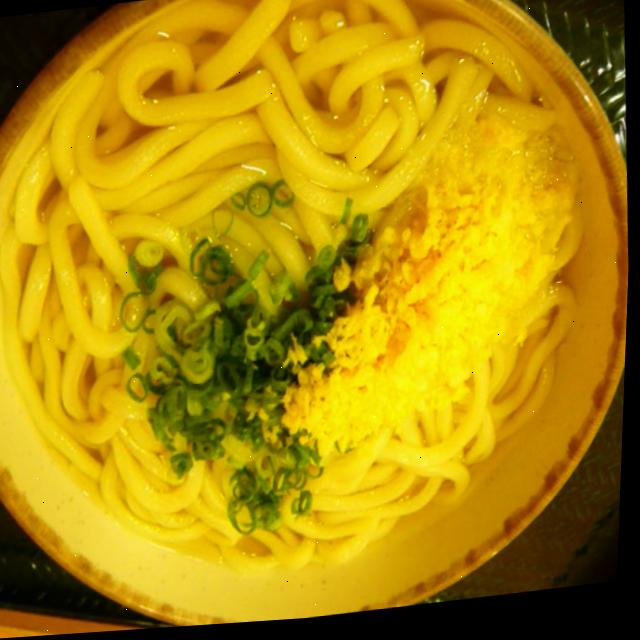面条主食: (95, 0, 633, 634)
